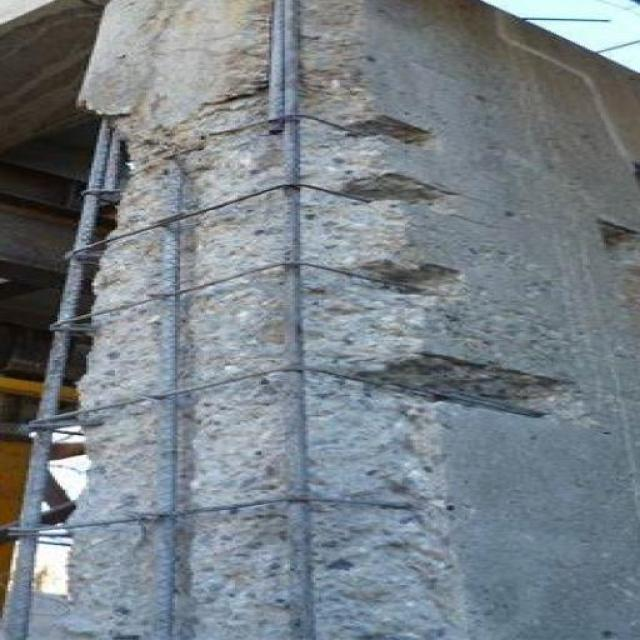D0w0: (5, 0, 570, 639)
